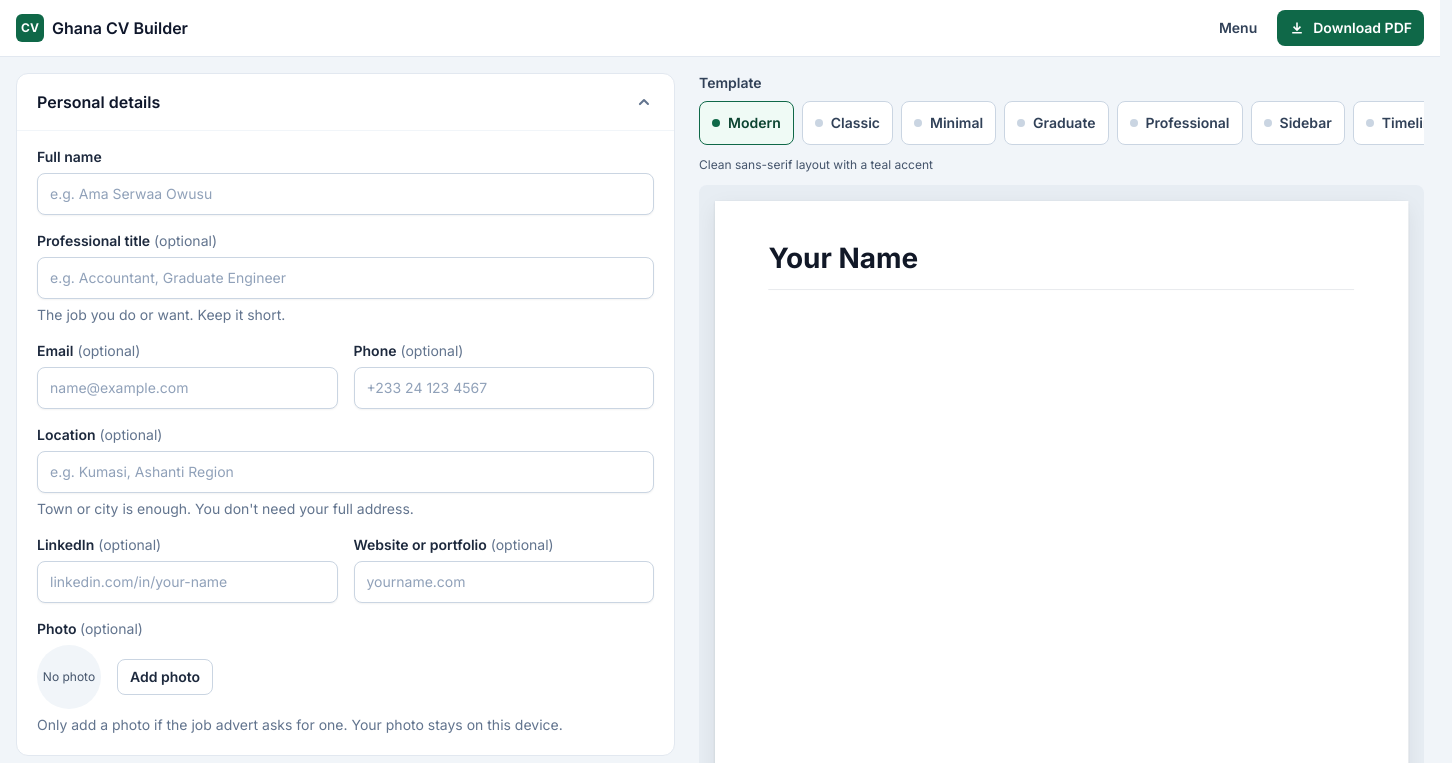
Test case: Builder › shows format errors after leaving a field
Expected: the field labelled "Full name" is shown, left=37, top=173, right=654, bottom=215
Type "ama@" into the field labelled "Email(optional)".
click(187, 388); type("ama@")  # box left=37, top=367, right=338, bottom=409
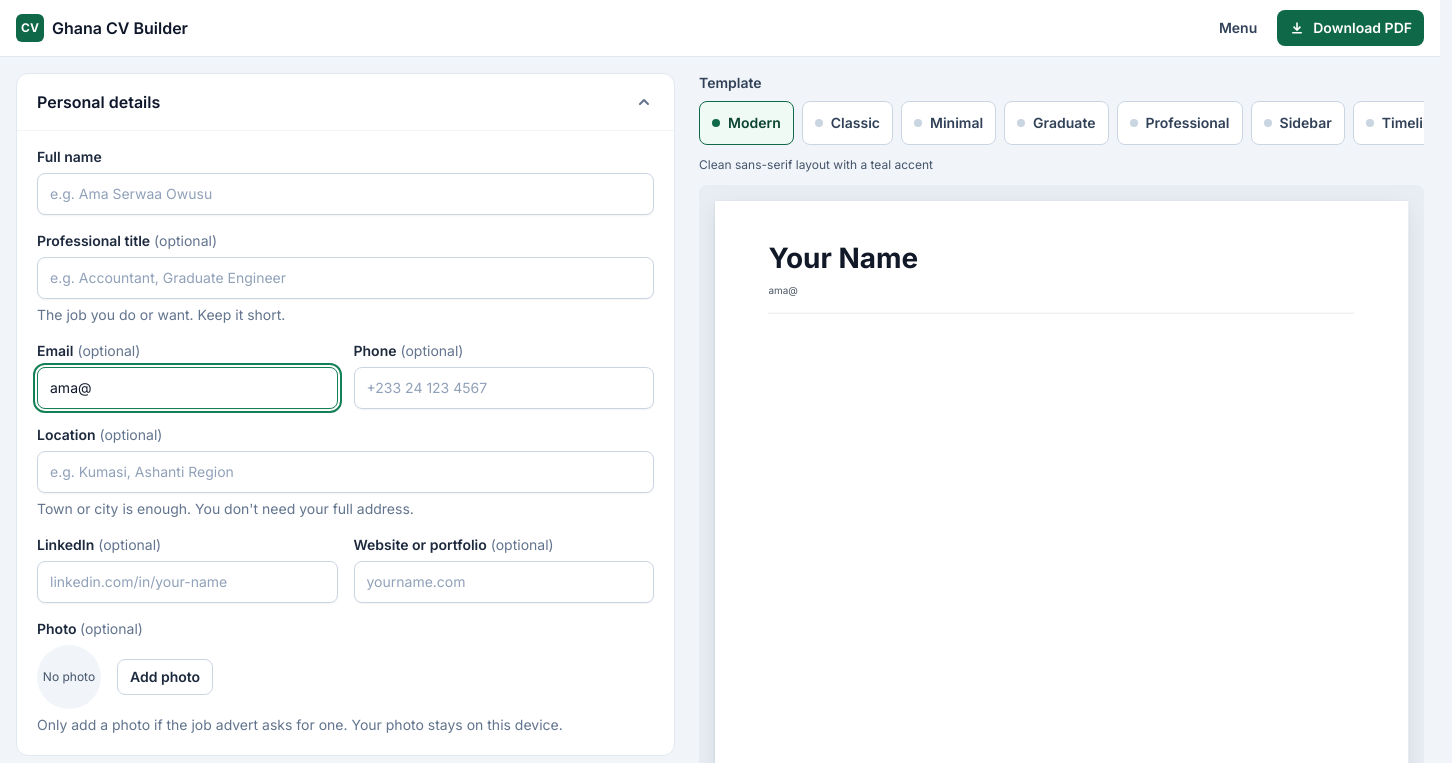
Expected: the text "Enter a valid email" is not shown
Press Tab
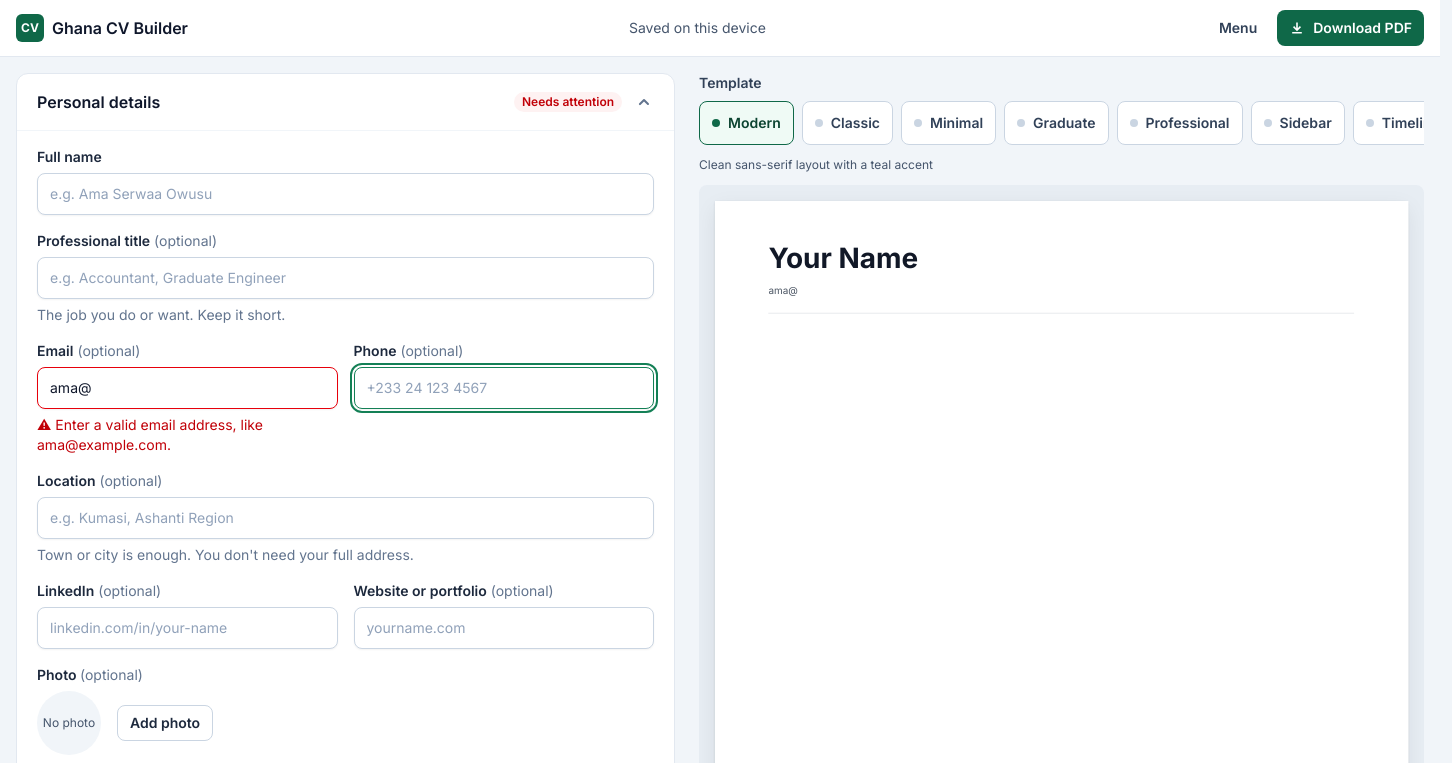
Now the text "⚠ Enter a valid email address, like ama@example.com." is shown, box left=37, top=416, right=263, bottom=453
